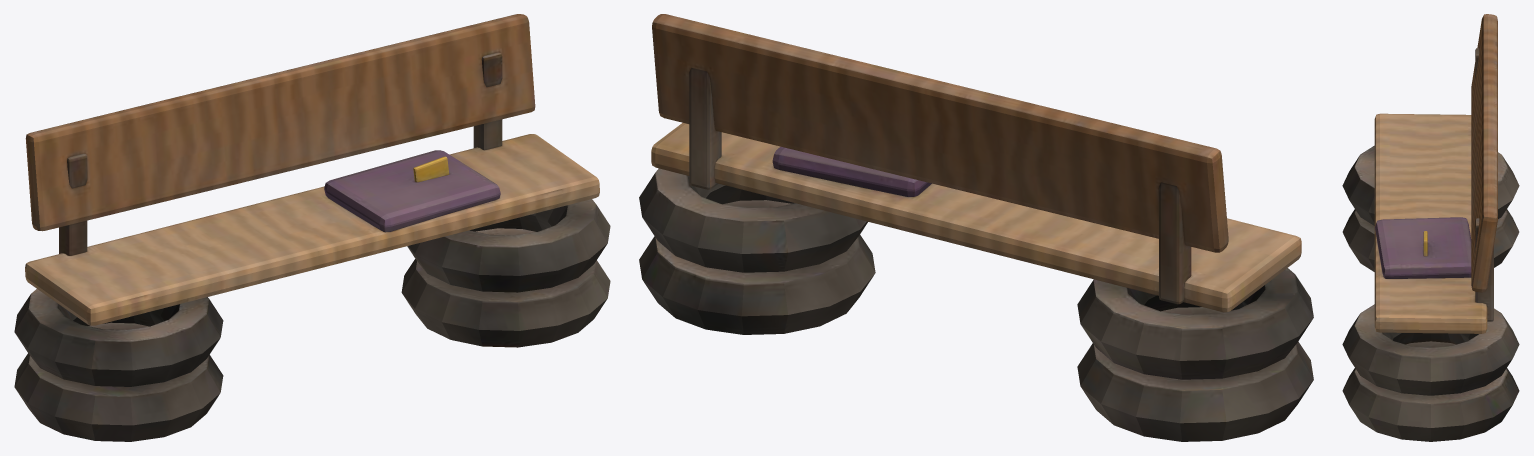
The model's file is decor_tyre_bench.glb.
The picture shows the model from 3 angles, left to right: view 1: azimuth 30°, elevation 25°; view 2: azimuth 150°, elevation 25°; view 3: azimuth 270°, elevation 25°; orthographic projection. The views are drawn at different scales.
Visible parts, largest first — view 1: TyreBench_Mesh; view 2: TyreBench_Mesh; view 3: TyreBench_Mesh.
Boxes of the visible parts, <box> form: TyreBench_Mesh: <box>14,14,610,441</box>; TyreBench_Mesh: <box>639,14,1313,441</box>; TyreBench_Mesh: <box>1342,14,1519,441</box>.
Bounding box in the file's own units: 2.06 × 0.8878 × 0.66.
1 material, 1 textured.
